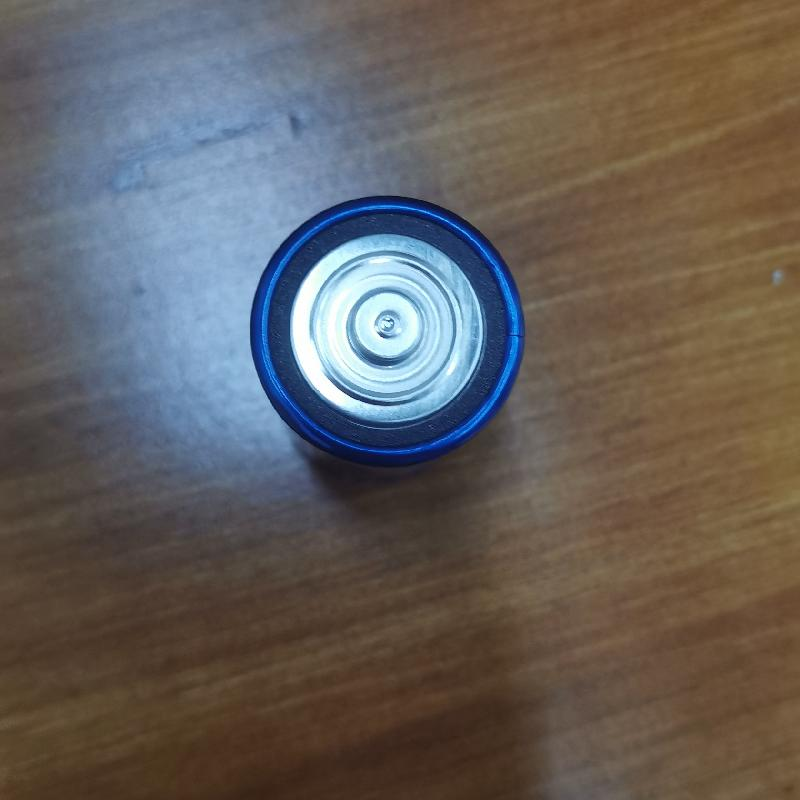battery: (239, 188, 524, 465)
